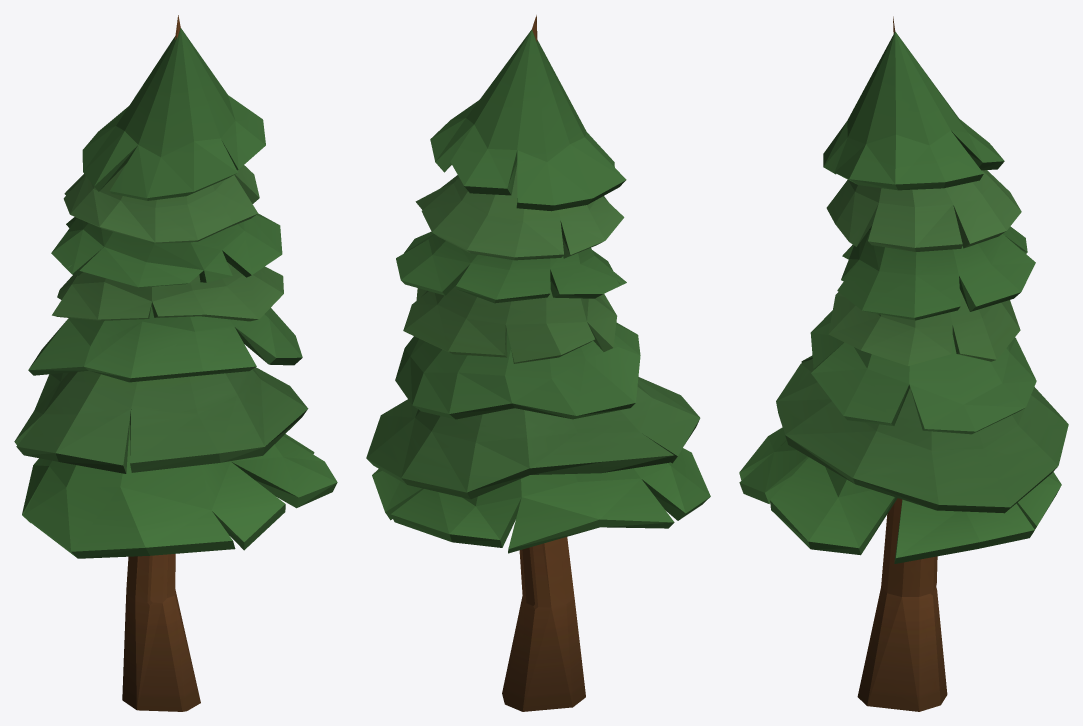
File: tree_fir.glb
The picture shows the model from 3 angles, left to right: view 1: azimuth 30°, elevation 25°; view 2: azimuth 150°, elevation 25°; view 3: azimuth 270°, elevation 25°; orthographic projection.
Visible parts, largest first — view 1: Conifer Tree_2_AA; view 2: Conifer Tree_2_AA; view 3: Conifer Tree_2_AA.
Part boxes in pixels (bbox=[...]): Conifer Tree_2_AA: bbox=[14, 15, 337, 711]; Conifer Tree_2_AA: bbox=[366, 15, 710, 711]; Conifer Tree_2_AA: bbox=[739, 16, 1068, 711].
Size of the model in its own units: 1.75 by 3.92 by 1.7.
1 material, 1 textured.
